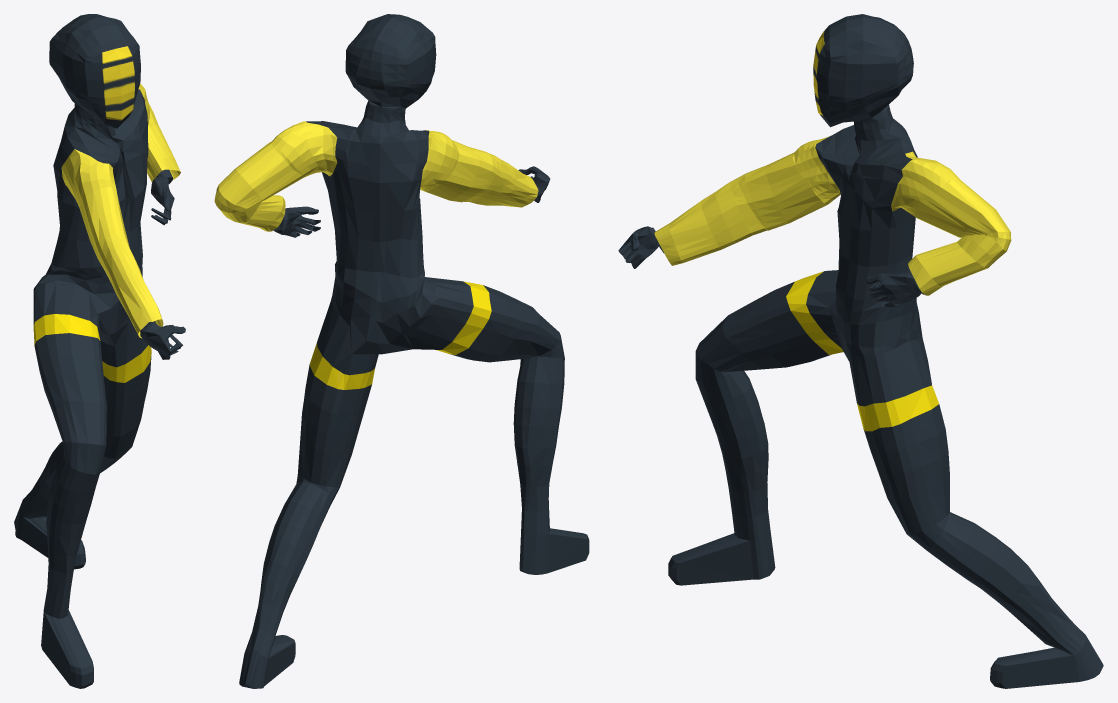
Rendered from Sentry_WL_000018.obj.
3 views of the same model, side by side, from view 1: azimuth 30°, elevation 25°; view 2: azimuth 150°, elevation 25°; view 3: azimuth 270°, elevation 25° (orthographic). The views are drawn at different scales.
Visible parts, largest first — view 1: Cube; view 2: Cube; view 3: Cube.
Part boxes in pixels (x1=…): Cube: x1=14, y1=14, x2=185, y2=688; Cube: x1=214, y1=14, x2=589, y2=688; Cube: x1=618, y1=14, x2=1103, y2=688.
Size of the model in its own units: 1.4 by 3.59 by 2.45.
